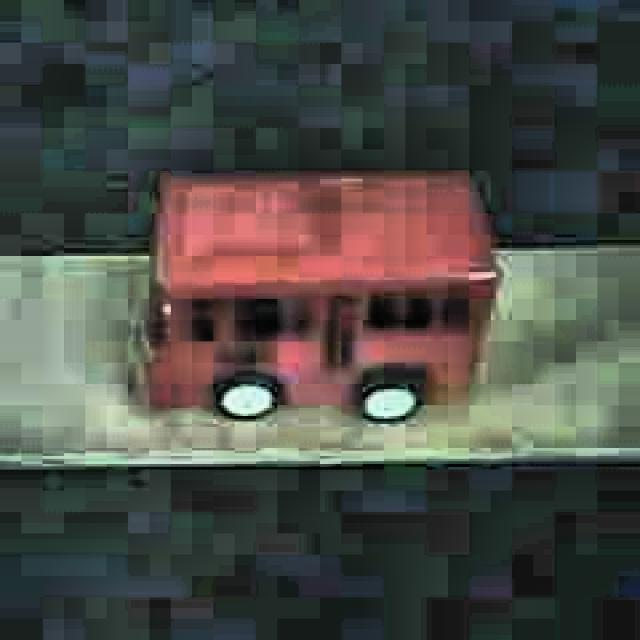bus: (142, 156, 501, 428)
